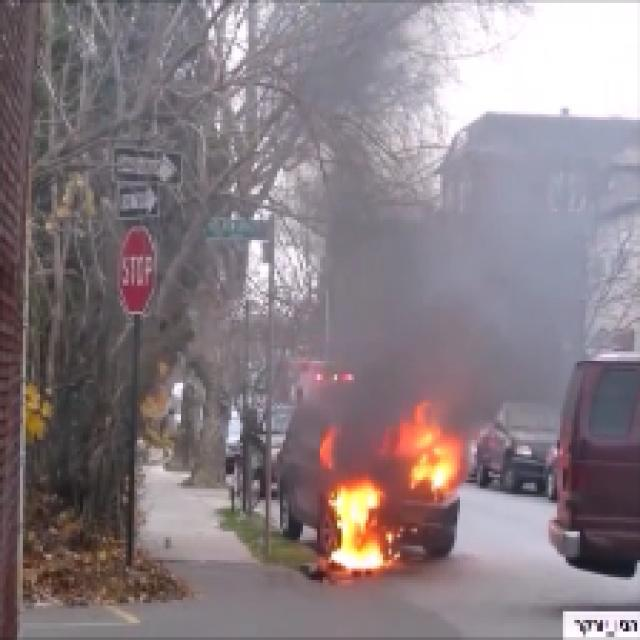fire: (325, 420, 474, 578)
smoke: (355, 216, 567, 419)
